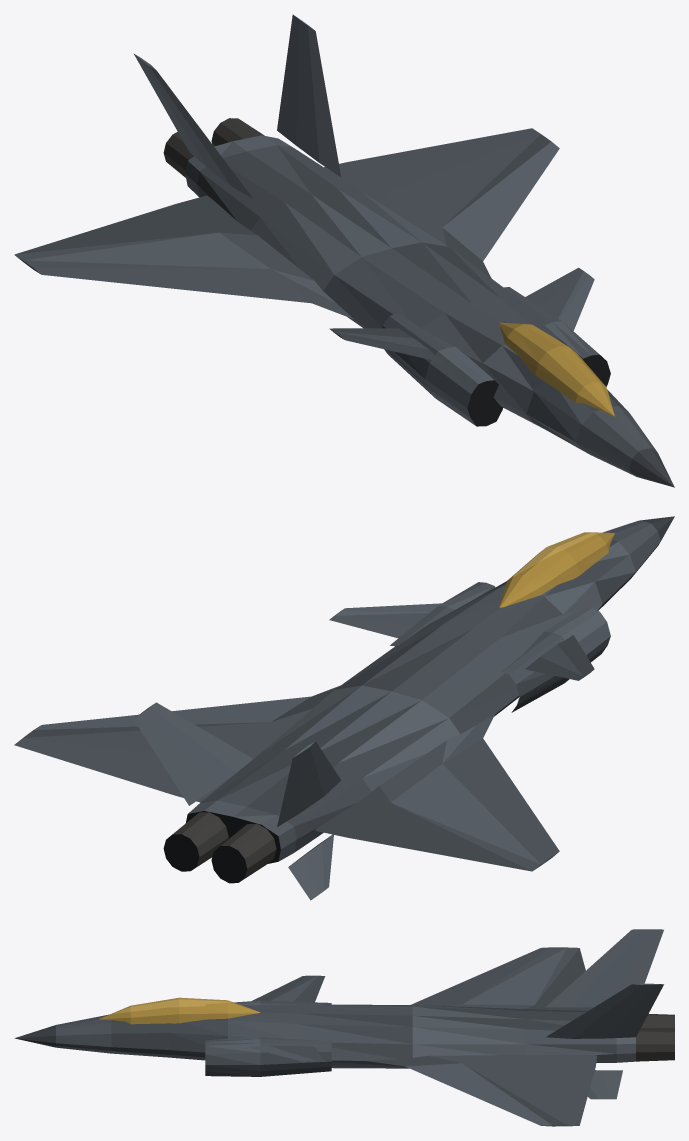
3 views of the same model, one above another, from view 1: azimuth 30°, elevation 25°; view 2: azimuth 150°, elevation 25°; view 3: azimuth 270°, elevation 25° (orthographic). The views are drawn at different scales.
Visible parts, largest first — view 1: airframe, canopy; view 2: airframe, canopy; view 3: airframe, canopy.
Boxes of the visible parts, <box> form: airframe: <box>14,14,674,487</box>; canopy: <box>499,322,614,416</box>; airframe: <box>14,516,674,900</box>; canopy: <box>499,532,614,607</box>; airframe: <box>14,929,674,1126</box>; canopy: <box>99,997,260,1024</box>.
Bounding box in the file's own units: 13 × 4.12 × 20.4.
